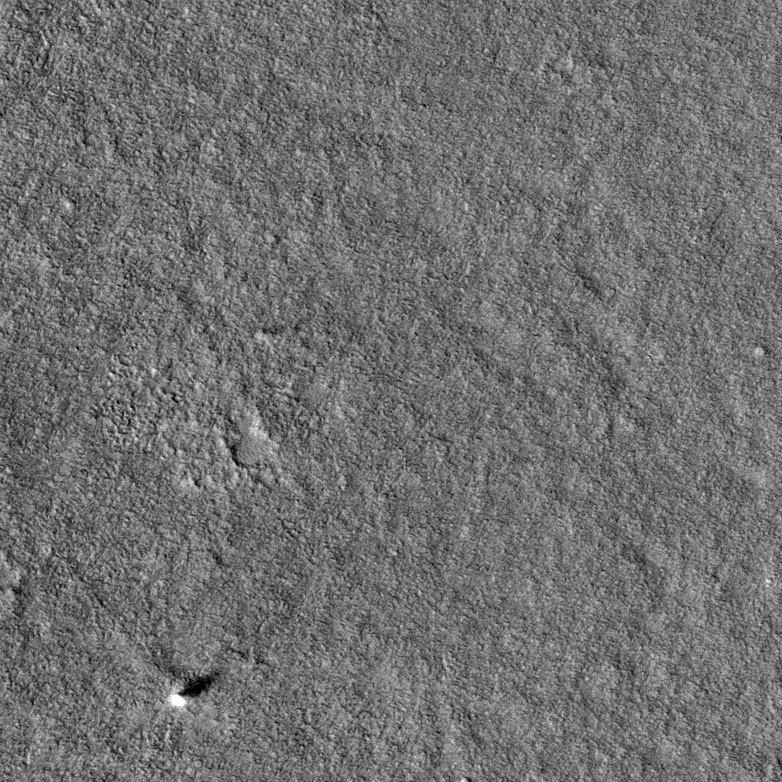dust_devil: (169, 670, 221, 708)
